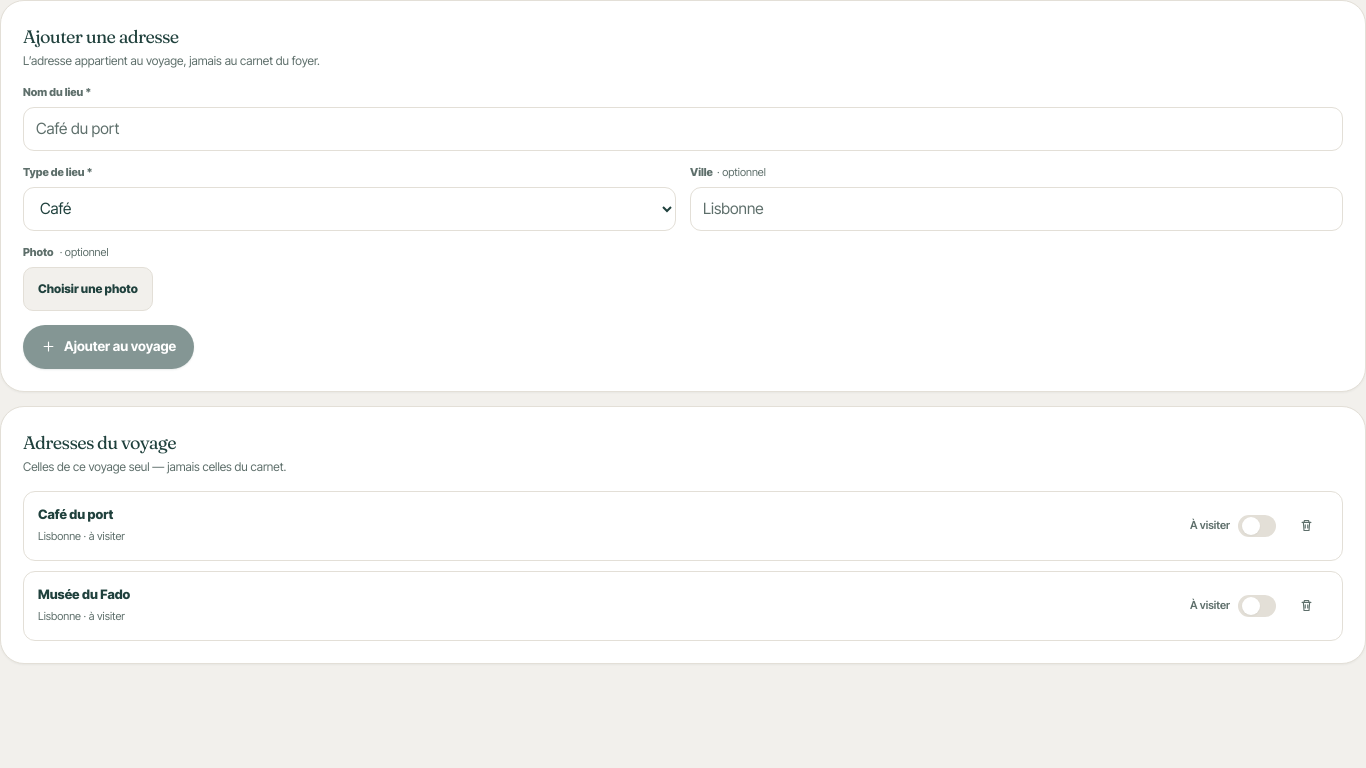
Test: TripPlacesTab — étanchéité du voyage (15-03) › la création depuis l’onglet porte trip_id, jamais visitée d’emblée
The width and height of the screenshot is (1366, 768).
Expected: the text "Café du port" is shown, left=38, top=506, right=113, bottom=522
Step 1. Type "Miradouro da Graça" into the field labelled "Nom du lieu *" → (683, 129), box left=23, top=107, right=1343, bottom=151
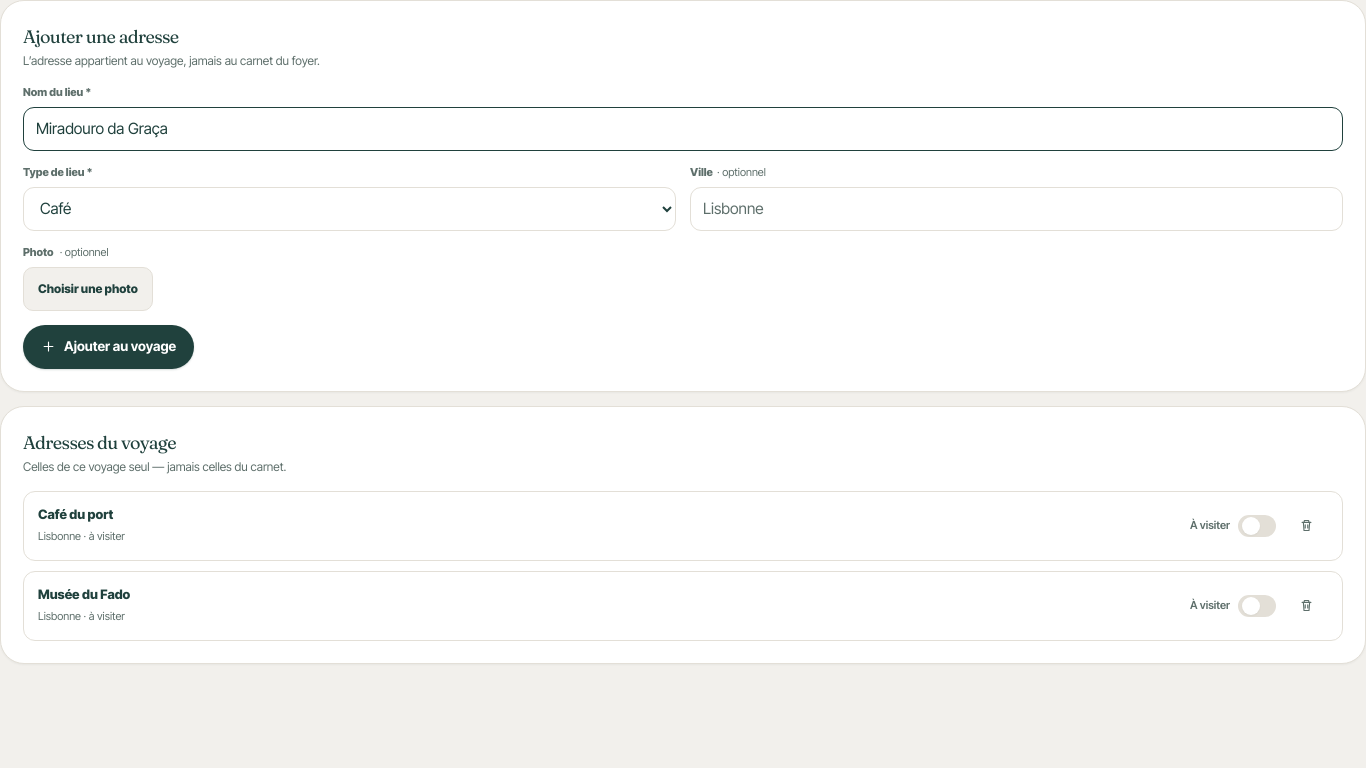
Step 2. Click the button "Ajouter au voyage" → click(109, 347), box left=23, top=325, right=194, bottom=369
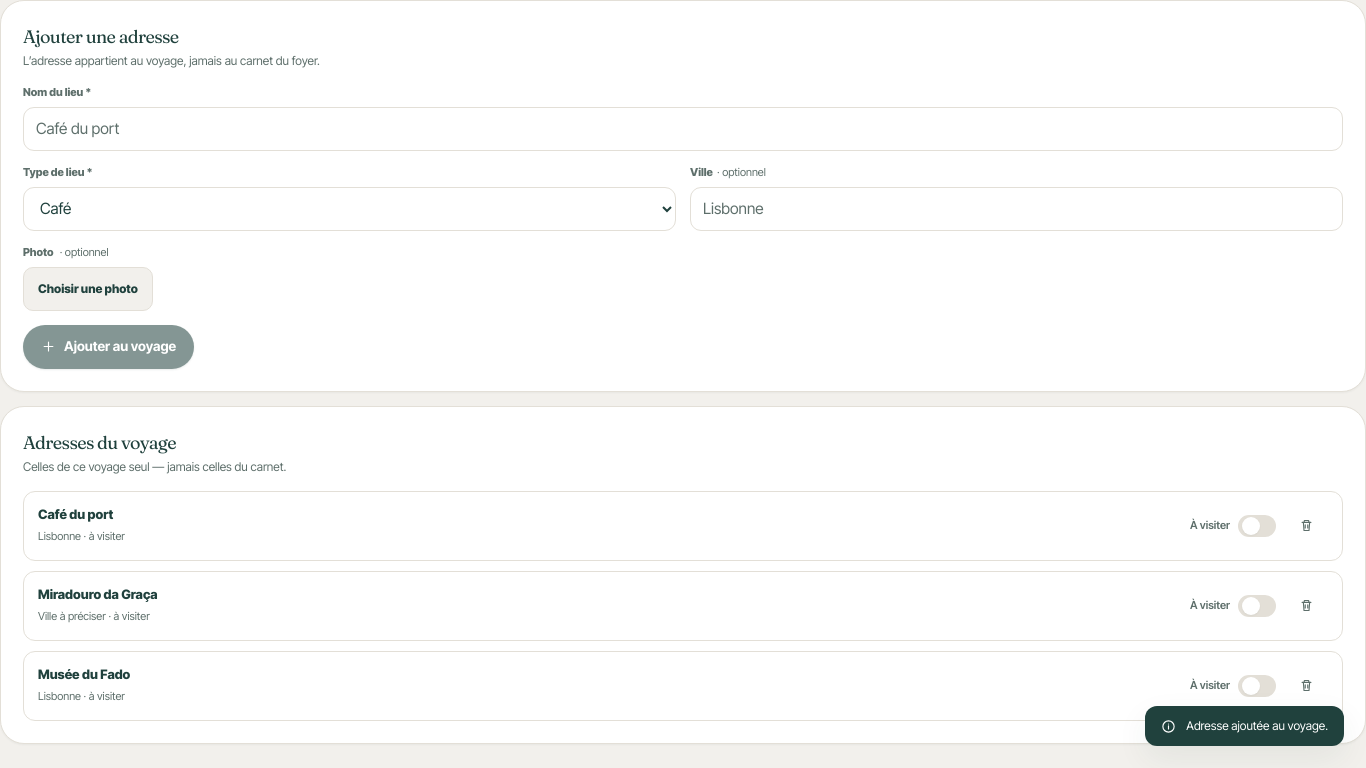
Now the text "Miradouro da Graça" is shown, box left=38, top=586, right=158, bottom=602
